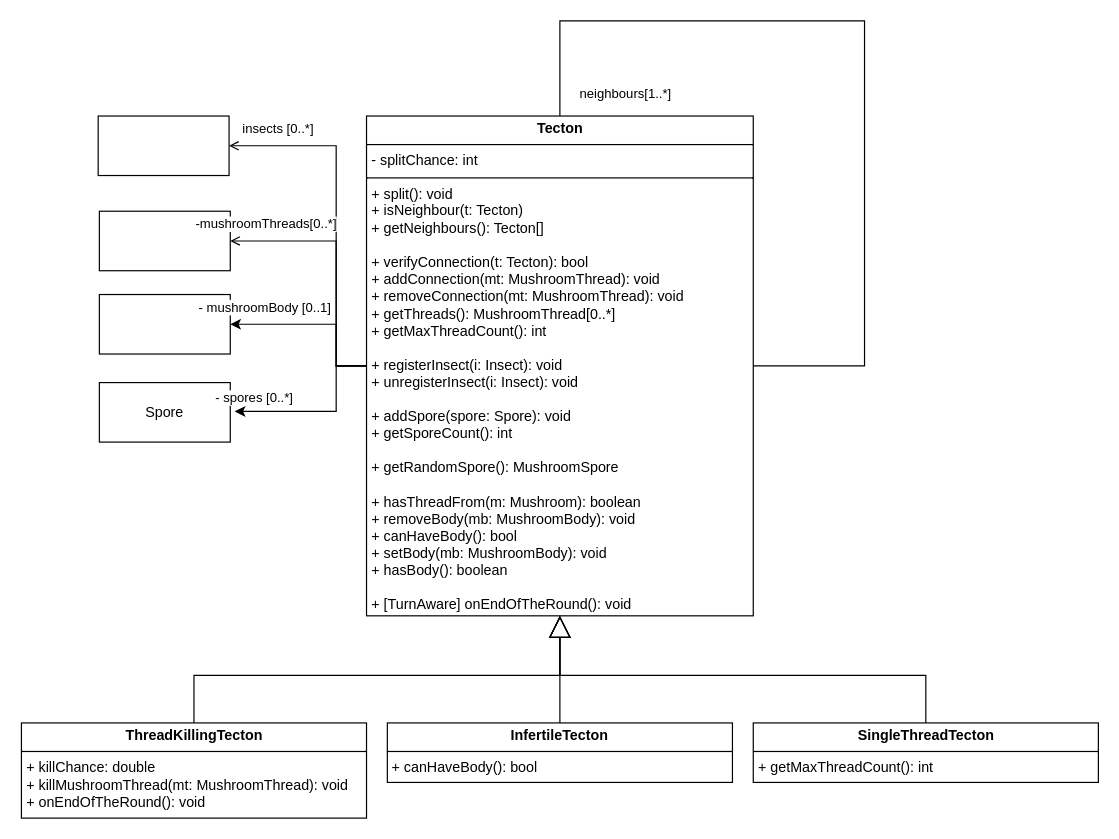
Image size: 1119x839. Some labels were removed from this diagram. The shapes that lost their labels are listed below. From the top down, each one's centre as x and y in pixels, then its label:
At point 163,145: "Insect".
At point 164,240: "MushroomThreads".
At point 164,323: "MushroomBody".
